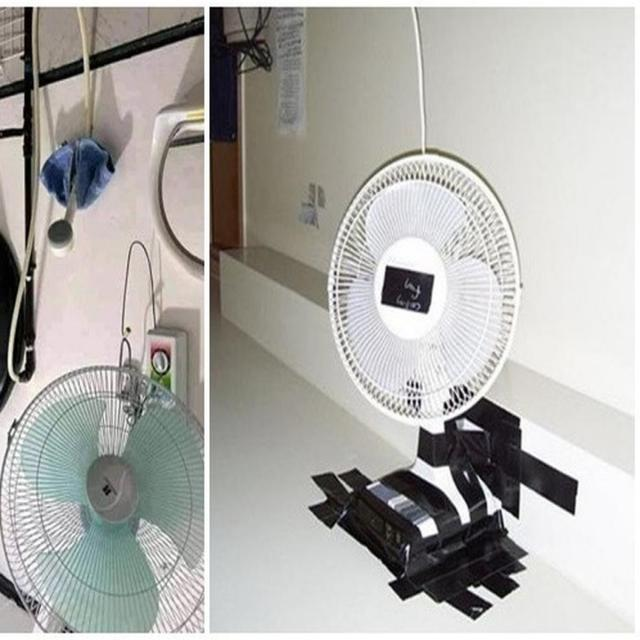fan: (317, 144, 522, 430)
